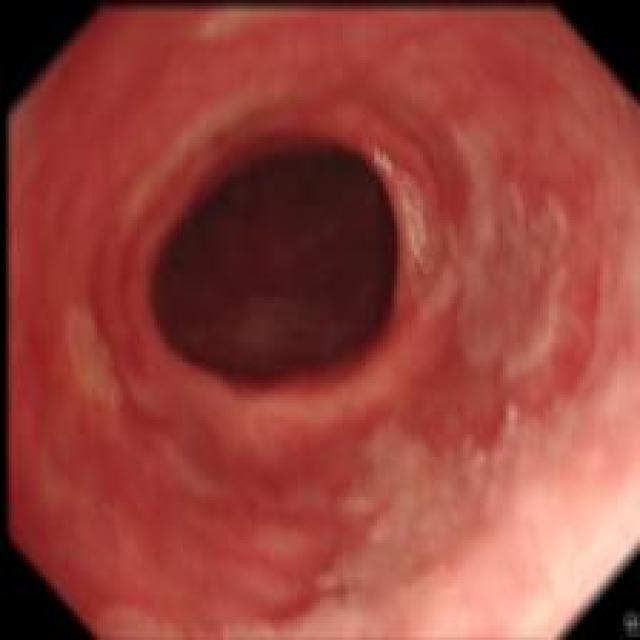blur: (0, 2, 639, 636)
color misalignment: (374, 142, 431, 278)
contrast: (141, 124, 411, 411)
saturation: (526, 506, 621, 624)
